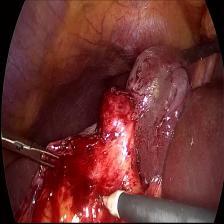Grasper: (13, 130, 61, 172)
Hook: (94, 183, 124, 220)
